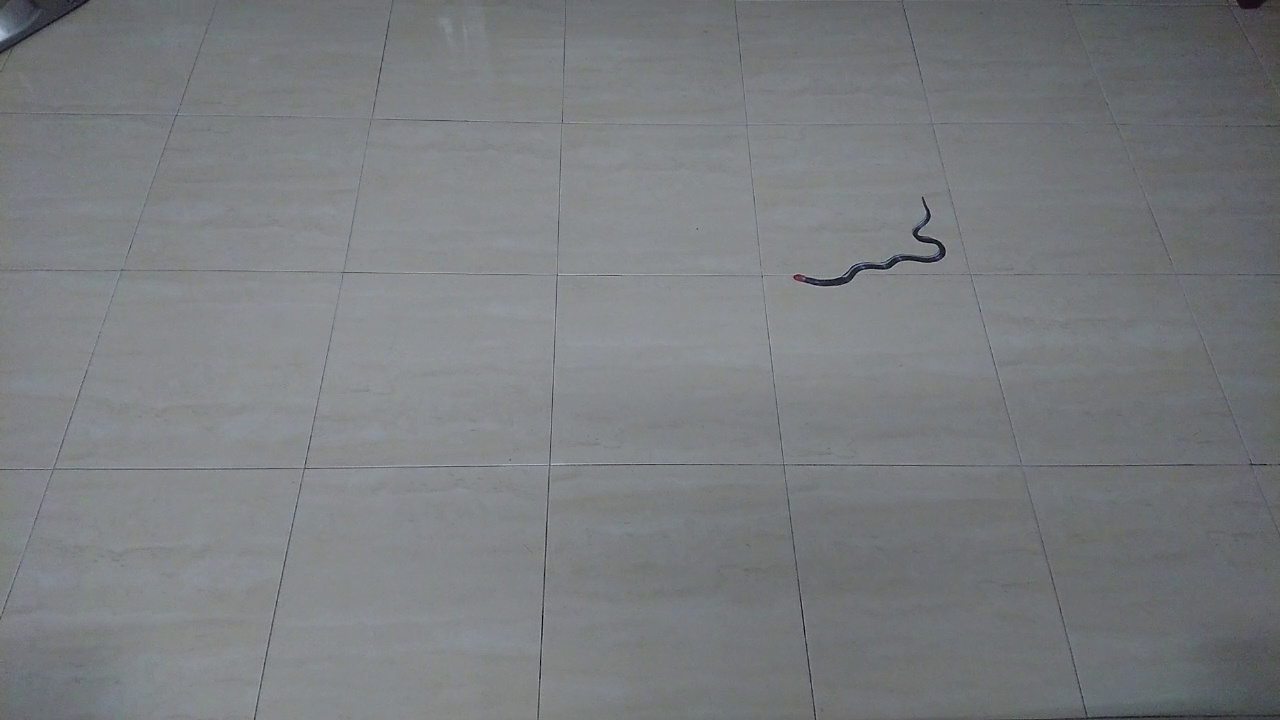snake: (779, 185, 957, 297)
